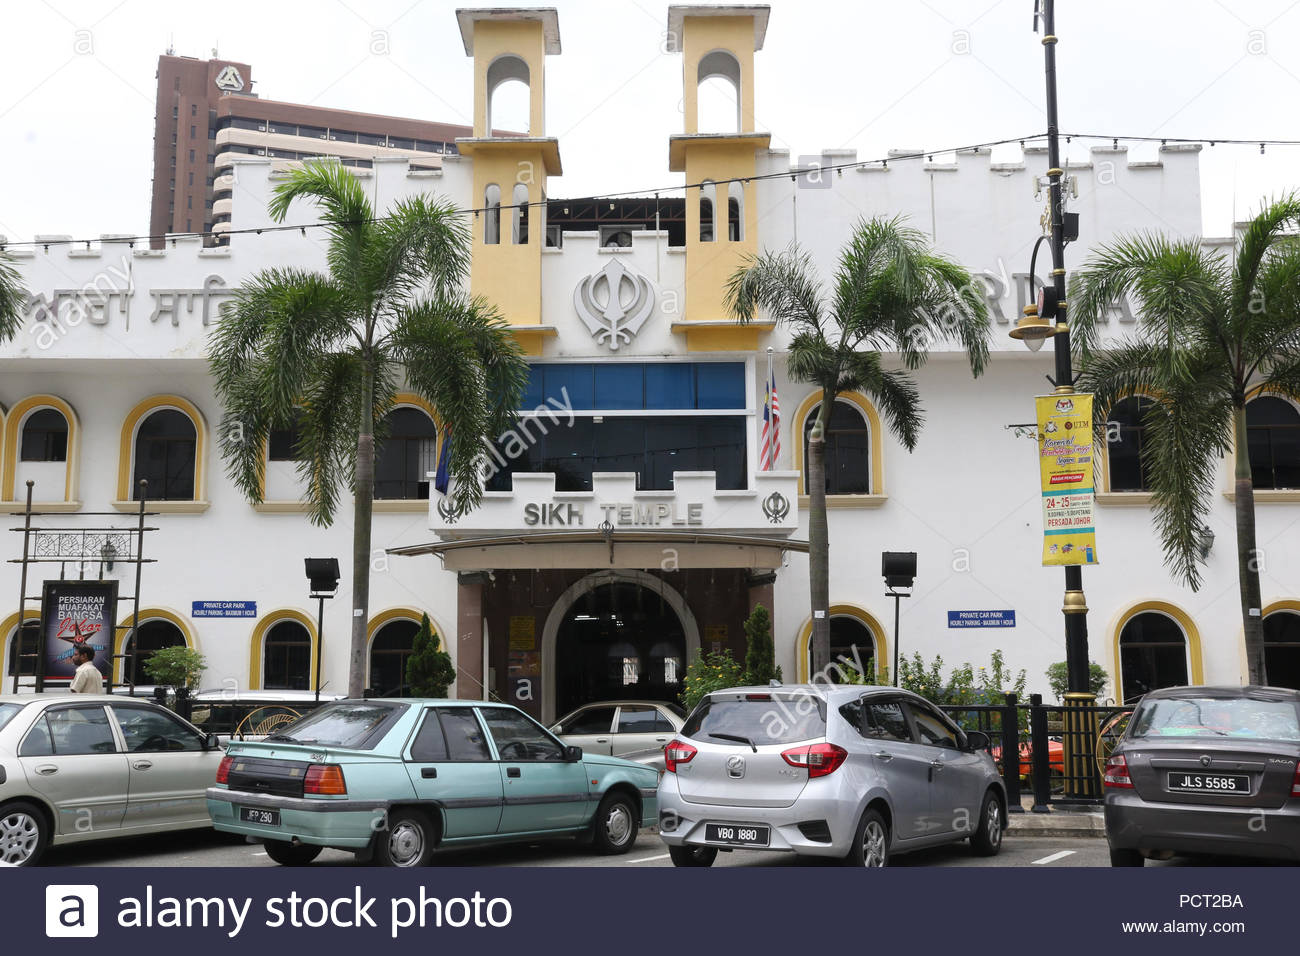Gurdwara: (30, 37, 1034, 675)
